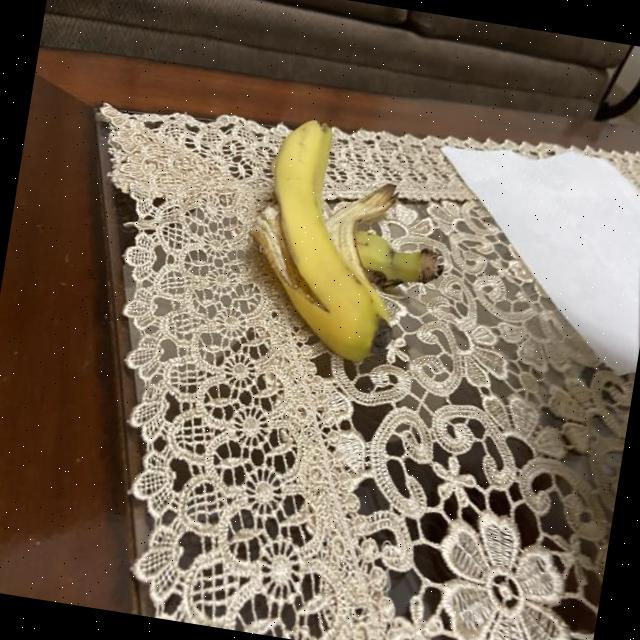banana-peel: (230, 110, 460, 374)
